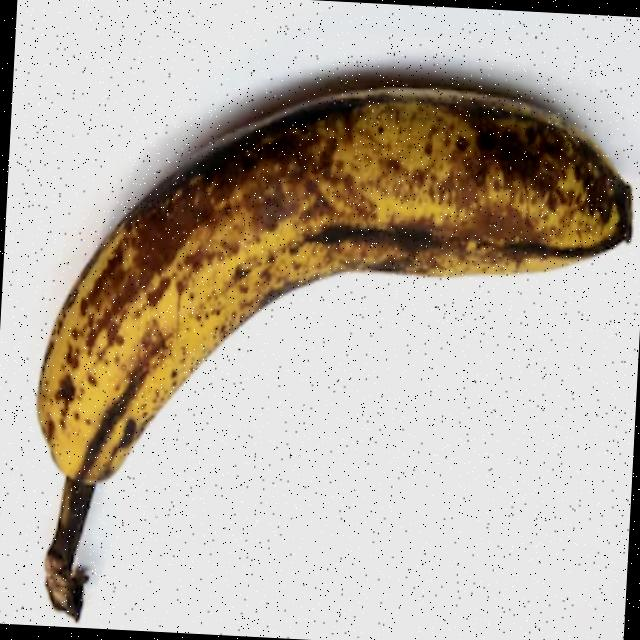overripe: (35, 97, 640, 640)
